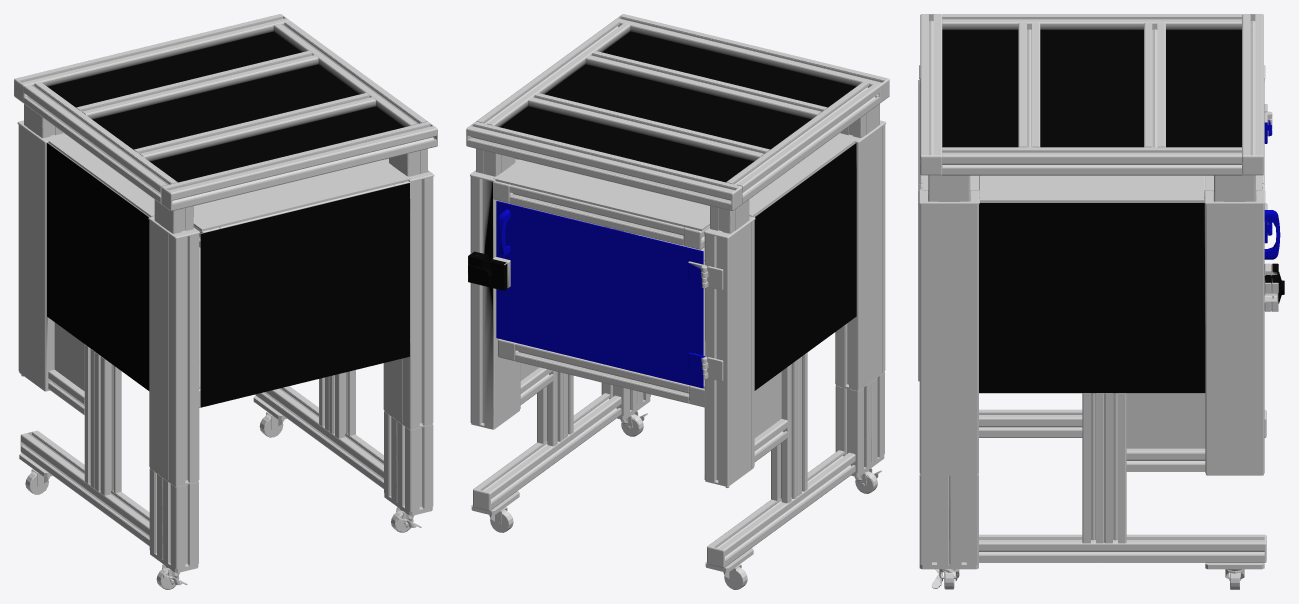
The model's file is lf044_rough.dae.
3 views of the same model, side by side, from view 1: azimuth 30°, elevation 25°; view 2: azimuth 150°, elevation 25°; view 3: azimuth 270°, elevation 25° (orthographic). The views are drawn at different scales.
Parts seen in each view (by area): view 1: node; view 2: node; view 3: node.
Part boxes in pixels (bbox=[...]): node: bbox=[14, 14, 437, 589]; node: bbox=[466, 14, 889, 589]; node: bbox=[918, 14, 1284, 589].
Bounding box in the file's own units: 685 × 997 × 744.
